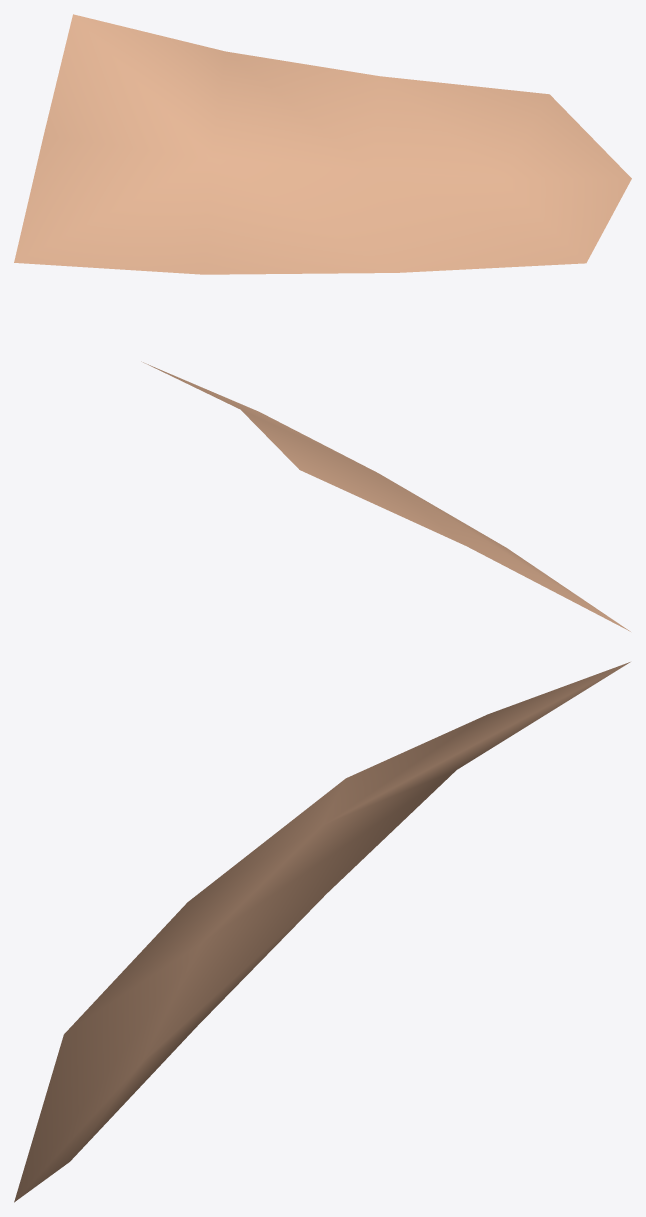
File: lesser-supraclavicular-fossa-r.glb
3 renders of one model, top to bottom at view 1: azimuth 30°, elevation 25°; view 2: azimuth 150°, elevation 25°; view 3: azimuth 270°, elevation 25°, orthographic. The views are drawn at different scales.
Visible parts, largest first — view 1: Lesser supraclavicular fossa.r; view 2: Lesser supraclavicular fossa.r; view 3: Lesser supraclavicular fossa.r.
Part boxes in pixels (left/top/right/bottom): Lesser supraclavicular fossa.r: left=14, top=14, right=631, bottom=274; Lesser supraclavicular fossa.r: left=141, top=361, right=630, bottom=631; Lesser supraclavicular fossa.r: left=14, top=662, right=630, bottom=1202.
Size of the model in its own units: 0.0347 by 0.0115 by 0.022.
